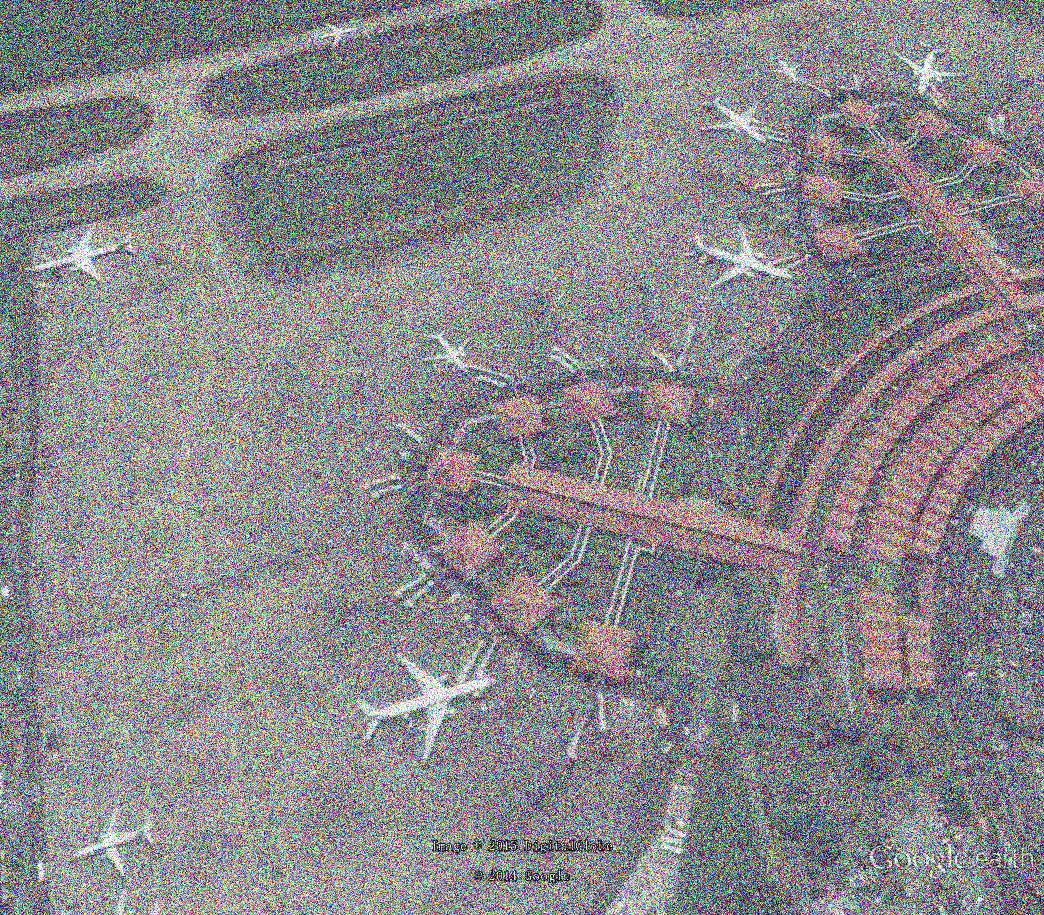aircraft: (352, 649, 502, 771), (19, 217, 139, 292), (678, 219, 799, 292), (67, 802, 159, 880), (889, 40, 972, 99), (694, 91, 774, 150), (421, 325, 475, 381), (306, 19, 360, 55), (762, 49, 808, 88)
